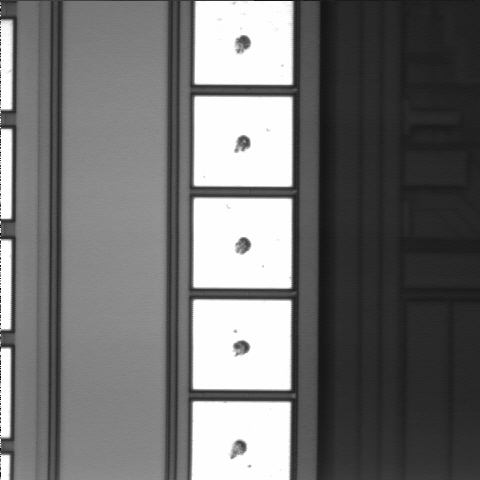pad: (194, 97, 292, 187), (194, 198, 292, 288), (193, 300, 291, 390)
